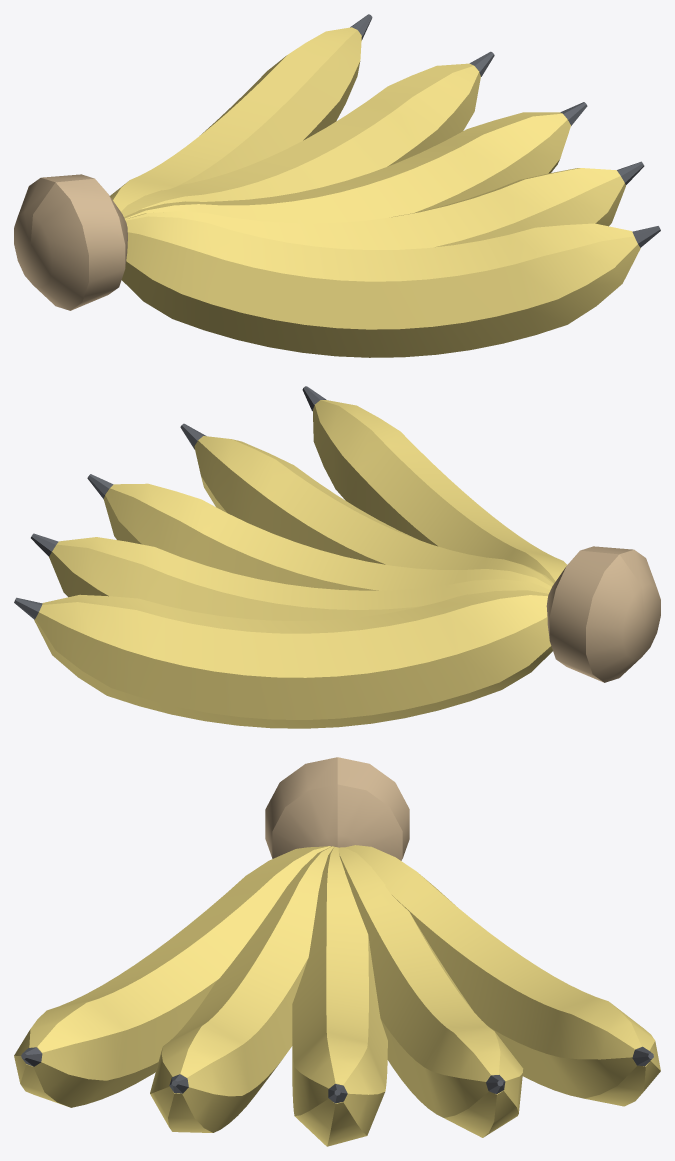
File: fresh-produce-and-groceries-banana-hand-149e37be__24332.glb
3 renders of one model, top to bottom at view 1: azimuth 30°, elevation 25°; view 2: azimuth 150°, elevation 25°; view 3: azimuth 270°, elevation 25°, orthographic. The views are drawn at different scales.
Parts seen in each view (by area): view 1: banana-hand; view 2: banana-hand; view 3: banana-hand.
Part boxes in pixels (x1,y1,x2,y2): banana-hand: (14,14,660,357); banana-hand: (14,386,660,728); banana-hand: (14,757,660,1146).
Bounding box in the file's own units: 0.1975 × 0.0584 × 0.1837.
